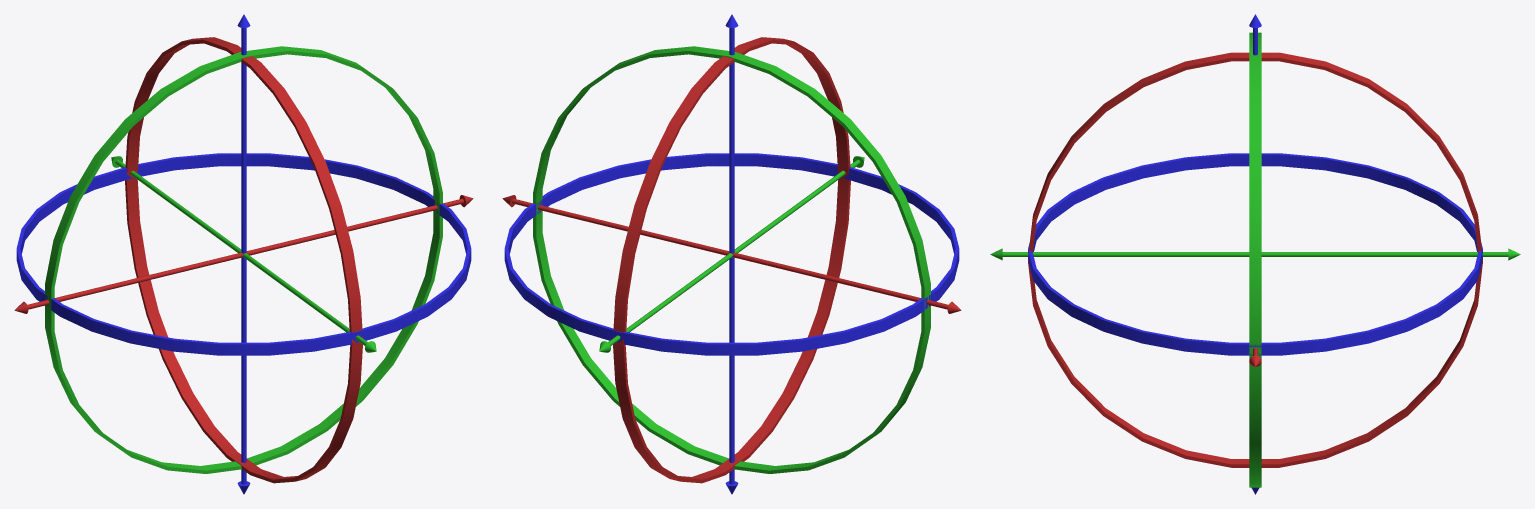
File: AXIS.gltf
3 views of the same model, side by side, from view 1: azimuth 30°, elevation 25°; view 2: azimuth 150°, elevation 25°; view 3: azimuth 270°, elevation 25° (orthographic).
Parts seen in each view (by area): view 1: ZAxis_1, XAxis_1, YAxis_1, ZArrow_1, XArrow_1, YArrow_1; view 2: ZAxis_1, XAxis_1, YAxis_1, ZArrow_1, XArrow_1, YArrow_1; view 3: ZAxis_1, XAxis_1, YAxis_1, YArrow_1.
Boxes of the visible parts, box(x1,y1,x2,y2) form: ZAxis_1: box(16, 153, 471, 355); XAxis_1: box(125, 37, 362, 483); YAxis_1: box(45, 46, 442, 473); ZArrow_1: box(237, 14, 250, 494); XArrow_1: box(14, 195, 473, 313); YArrow_1: box(111, 156, 376, 352); ZAxis_1: box(504, 153, 959, 355); XAxis_1: box(613, 37, 850, 483); YAxis_1: box(533, 46, 930, 473); ZArrow_1: box(725, 14, 738, 494); XArrow_1: box(502, 195, 961, 313); YArrow_1: box(599, 156, 864, 352); ZAxis_1: box(1028, 153, 1482, 355); XAxis_1: box(1028, 52, 1482, 467); YAxis_1: box(1249, 32, 1261, 487); YArrow_1: box(990, 248, 1520, 260).
Size of the model in its own units: 4.2 by 4.2 by 4.2.
